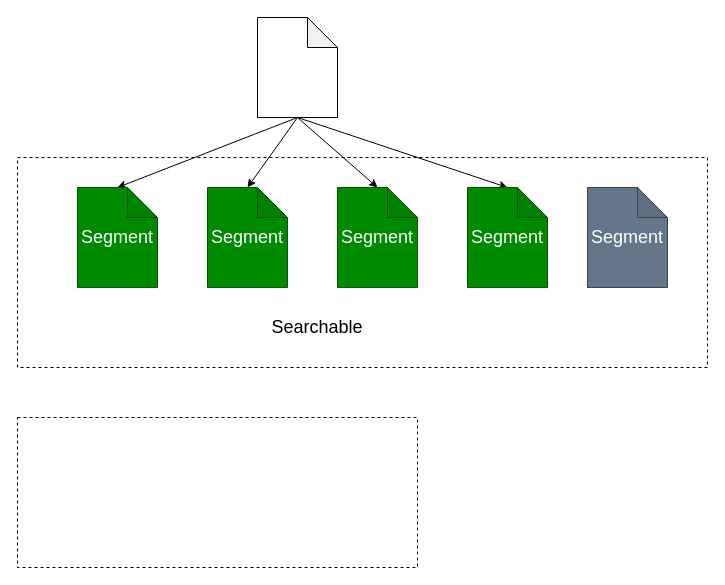
Image size: 725x585. Some labels were removed from this diagram. The centre of each missing label's shape, as x and y in pixels:
"commit point" belongs at pixel 297 67.
"In-memory buffer" belongs at pixel 217 492.
